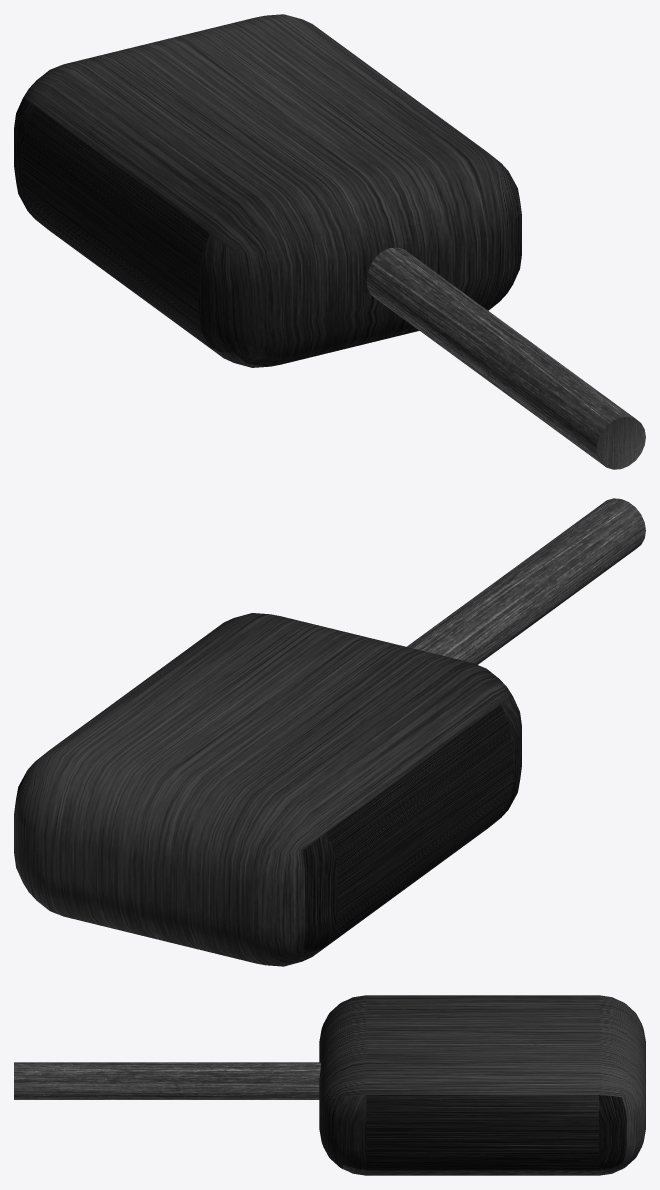
Rendered from weapon.fbx.
The picture shows the model from 3 angles, top to bottom: view 1: azimuth 30°, elevation 25°; view 2: azimuth 150°, elevation 25°; view 3: azimuth 270°, elevation 25°; orthographic projection. The views are drawn at different scales.
Visible parts, largest first — view 1: pCube4, pCylinder1; view 2: pCube4, pCylinder1; view 3: pCube4, pCylinder1.
Part boxes in pixels (x1,y1,x2,y2): pCube4: (14,14,521,367); pCylinder1: (366,247,645,469); pCube4: (14,613,521,966); pCylinder1: (407,498,645,664); pCube4: (319,995,645,1175); pCylinder1: (14,1062,320,1099).
Size of the model in its own units: 4.41 by 2.22 by 11.56.
Materials: 2 (2 with a texture image).
